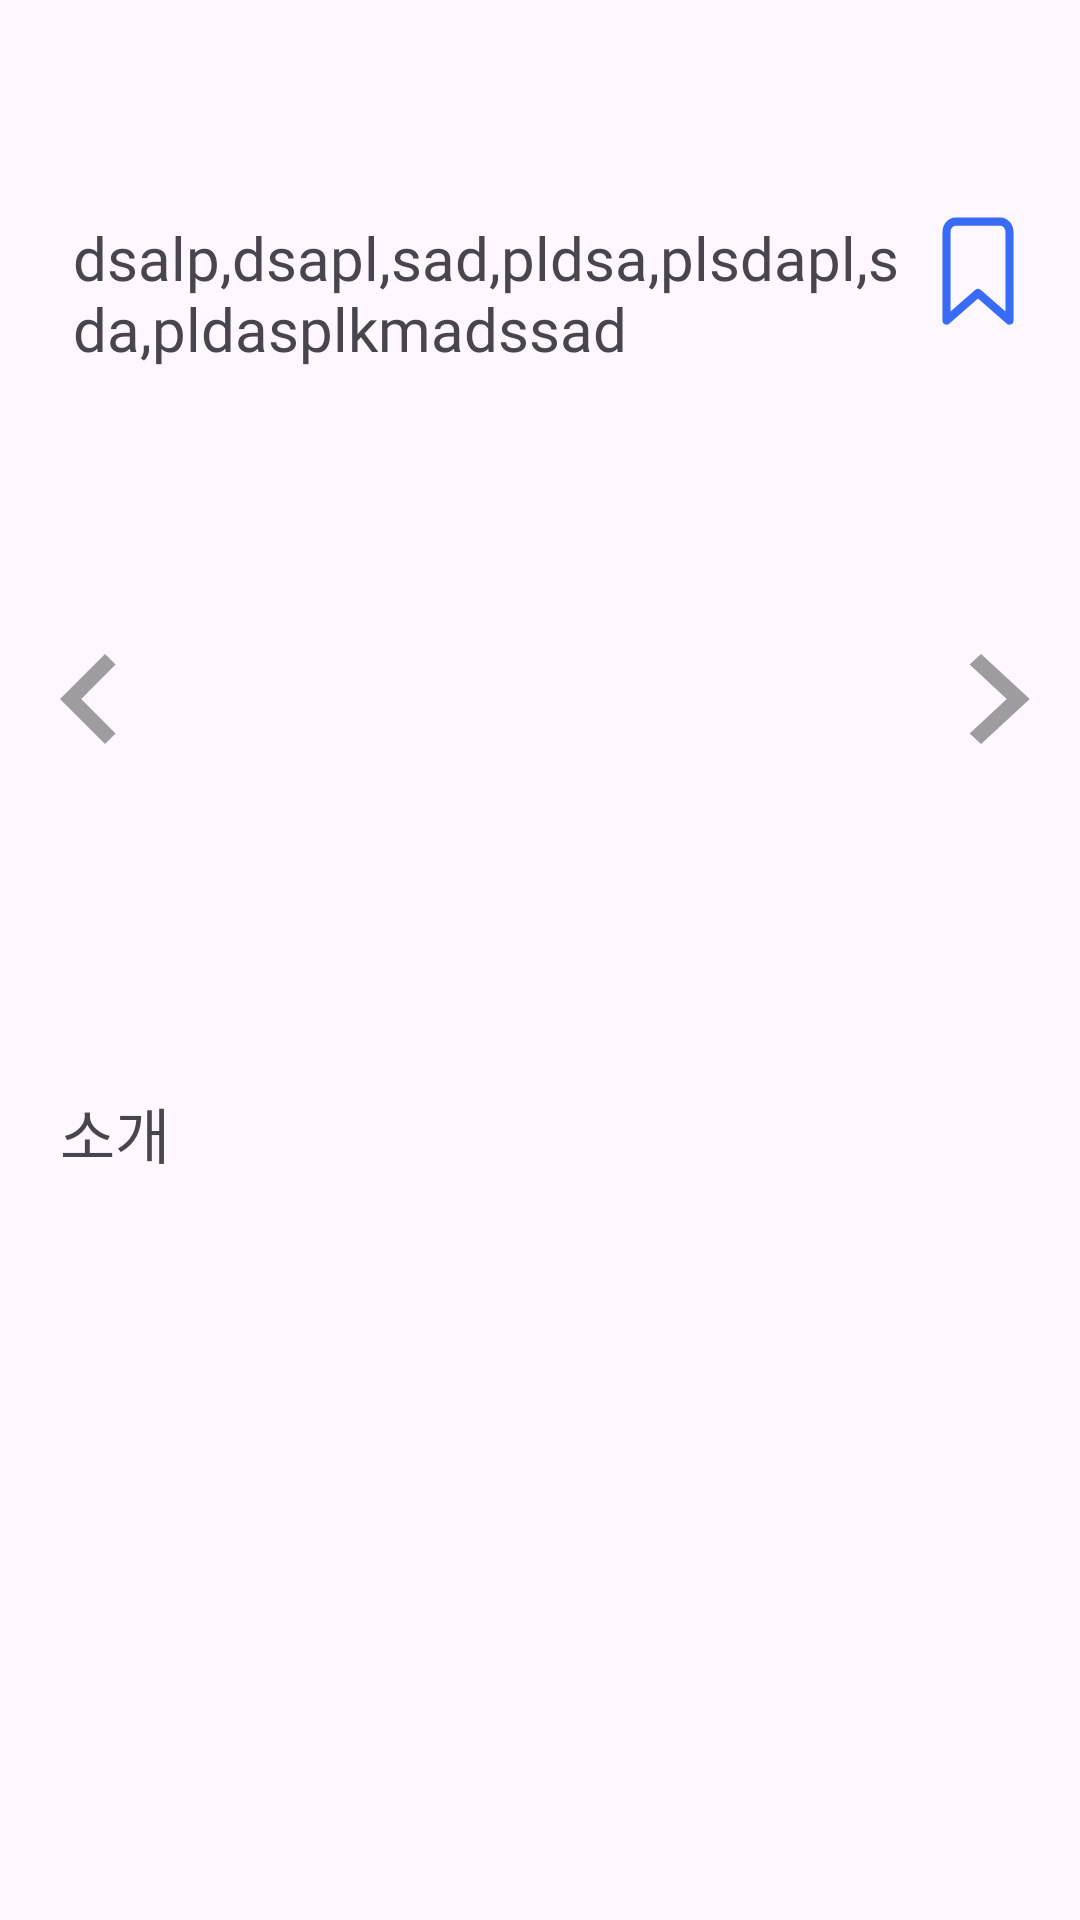

Screen size 1080×1920. Icon name, then its box in pixels as (x1, y1, x2, y2):
art left: (60, 654, 116, 744)
art right: (970, 654, 1029, 744)
unbookmark: (942, 217, 1014, 325)
